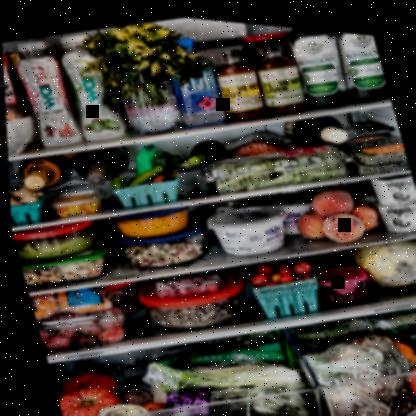ginger: (10, 182, 42, 206), (8, 188, 17, 207)
green_chillies: (125, 158, 168, 185), (107, 171, 125, 188)
milk: (2, 50, 24, 116)
parsley: (87, 10, 185, 83)
peach: (319, 201, 365, 242), (307, 178, 354, 214), (293, 204, 326, 237), (350, 194, 382, 227)
tomato: (51, 377, 120, 415), (57, 360, 119, 397), (399, 344, 415, 398), (289, 254, 311, 272), (246, 266, 269, 283), (274, 264, 293, 278), (254, 257, 270, 272)
yoghurt: (206, 194, 292, 259), (370, 163, 415, 204), (375, 189, 415, 231)
zucchini: (177, 132, 228, 168)
